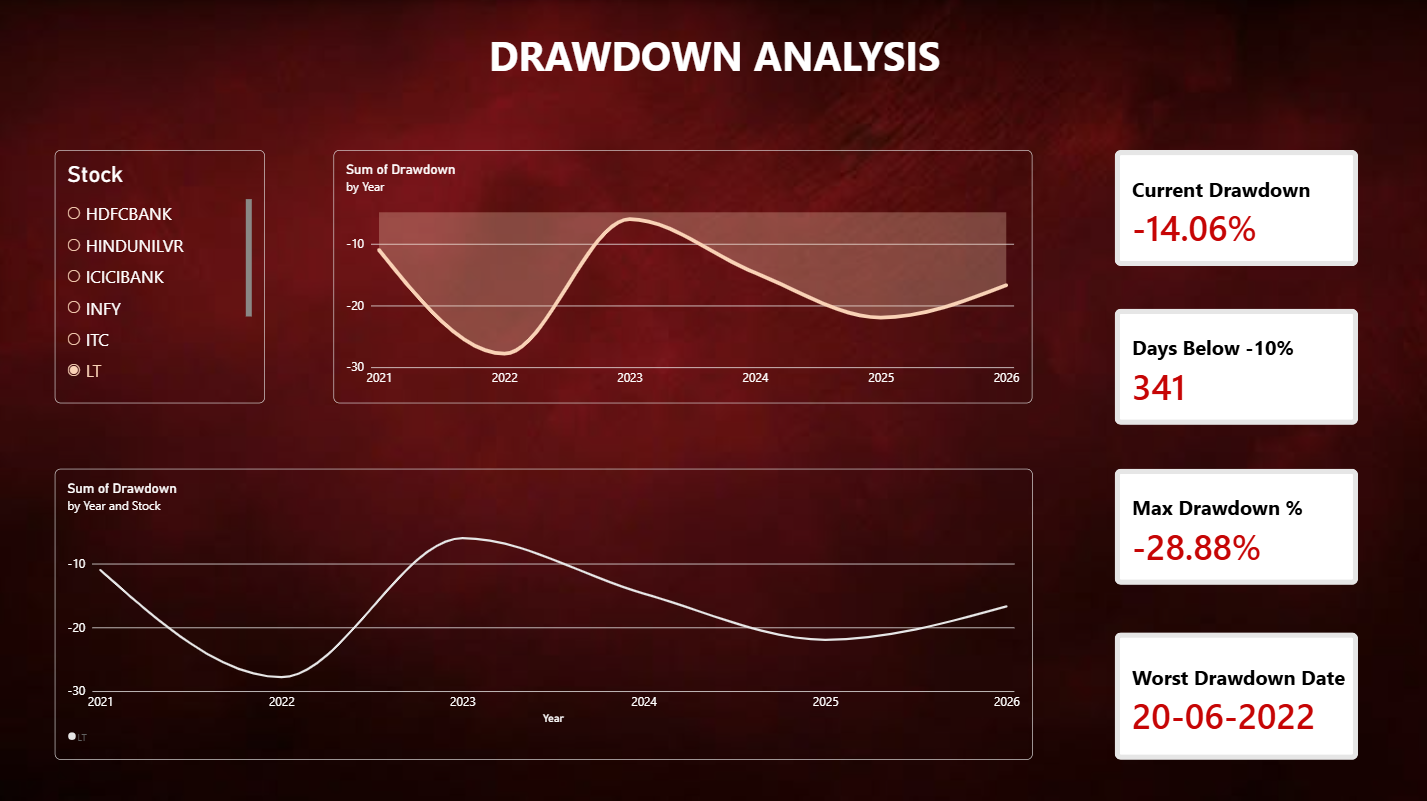

This screenshot's page, from the dashboard's own definition file:
{"tool":"powerbi","page":{"name":"drawdown analysis","canvas":[1920,1080],"ordinal":4},"visuals":[{"type":"listSlicer","fields":{"Values":["Stocks.Stock"]},"box":[77.8,200.9,280.5,338.4],"z":0},{"type":"textbox","box":[0,0,1920.1,175.5],"z":1000},{"type":"areaChart","fields":{"Category":["drawdown_long.Date.Variation.Date Hierarchy.Year","drawdown_long.Date.Variation.Date Hierarchy.Quarter","drawdown_long.Date.Variation.Date Hierarchy.Month","drawdown_long.Date.Variation.Date Hierarchy.Day"],"Y":["Sum(drawdown_long.Drawdown)"]},"box":[450.6,200.9,933.8,338.4],"z":2000},{"type":"cardVisual","fields":{"Data":["drawdown_long.Current Drawdown"]},"box":[1494.8,200.9,325.7,155.6],"z":3000},{"type":"cardVisual","fields":{"Data":["drawdown_long.Days Below -10%"]},"box":[1494.8,412.6,325.7,155.6],"z":4000},{"type":"cardVisual","fields":{"Data":["drawdown_long.Max Drawdown %"]},"box":[1494.8,626.1,325.7,155.6],"z":5000},{"type":"cardVisual","fields":{"Data":["drawdown_long.Worst Drawdown Date"]},"box":[1494.8,845.1,325.7,170.1],"z":6000},{"type":"lineChart","fields":{"Category":["drawdown_long.Date.Variation.Date Hierarchy.Year","drawdown_long.Date.Variation.Date Hierarchy.Quarter","drawdown_long.Date.Variation.Date Hierarchy.Month","drawdown_long.Date.Variation.Date Hierarchy.Day"],"Series":["Stocks.Stock"],"Y":["Sum(drawdown_long.Drawdown)"]},"box":[77.8,626.1,1306.6,389.1],"z":7000}]}

Visuals, with their boxes in screenshot pixels (x1, y1, x2, y2), scaled from the page's 1920x1080 canvas onto the 1427x801 screenshot:
listSlicer - Stocks.Stock: left=58, top=149, right=266, bottom=400
textbox: left=0, top=0, right=1426, bottom=130
areaChart - drawdown_long.Date.Variation.Date Hierarchy.Year x drawdown_long.Date.Variation.Date Hierarchy.Quarter: left=335, top=149, right=1029, bottom=400
cardVisual - drawdown_long.Current Drawdown: left=1111, top=149, right=1353, bottom=264
cardVisual - drawdown_long.Days Below -10%: left=1111, top=306, right=1353, bottom=421
cardVisual - drawdown_long.Max Drawdown %: left=1111, top=464, right=1353, bottom=580
cardVisual - drawdown_long.Worst Drawdown Date: left=1111, top=627, right=1353, bottom=753
lineChart - drawdown_long.Date.Variation.Date Hierarchy.Year x drawdown_long.Date.Variation.Date Hierarchy.Quarter: left=58, top=464, right=1029, bottom=753
